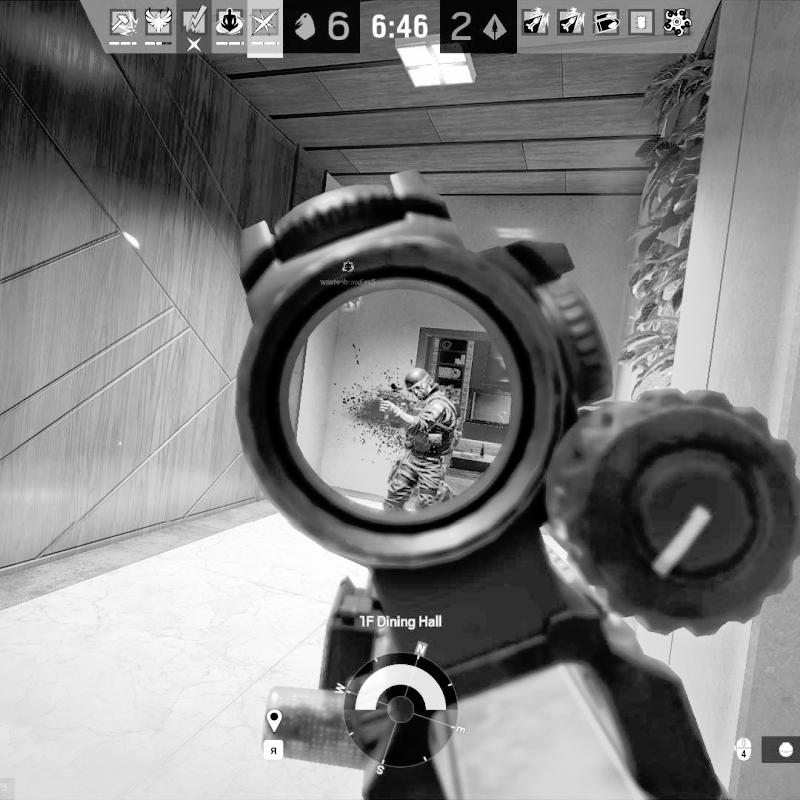Character: (378, 366, 464, 516)
Friend_label: (321, 258, 377, 286)
Head: (403, 367, 434, 401)
